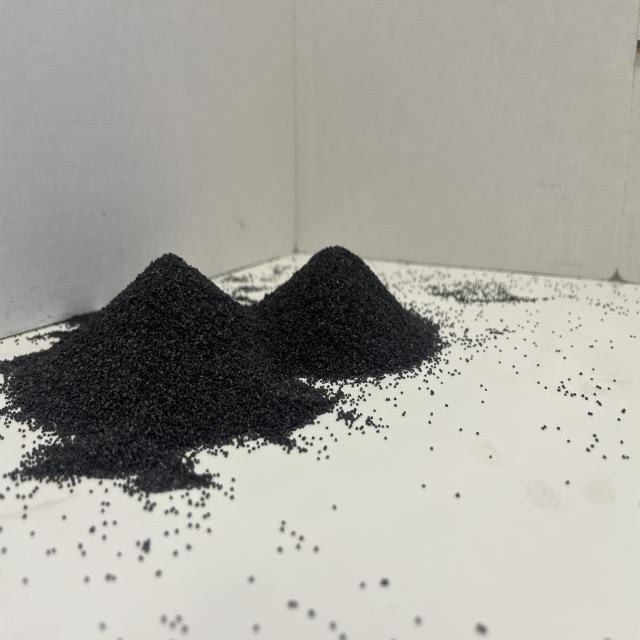Poppy Seeds: (19, 213, 446, 511)
